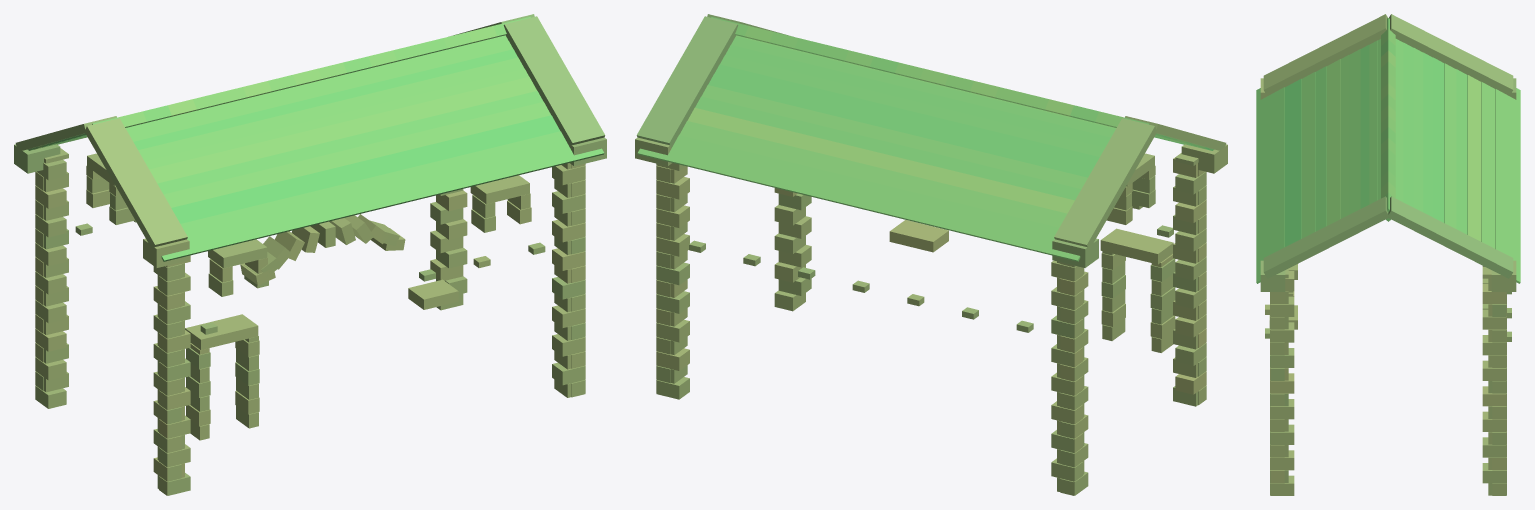
File: SM_Bld_048_Stone.glb
3 views of the same model, side by side, from view 1: azimuth 30°, elevation 25°; view 2: azimuth 150°, elevation 25°; view 3: azimuth 270°, elevation 25° (orthographic). The views are drawn at different scales.
Visible parts, largest first — view 1: SM_Bld_048_Stone; view 2: SM_Bld_048_Stone; view 3: SM_Bld_048_Stone.
Boxes of the visible parts, left/top/right/bottom form: SM_Bld_048_Stone: left=14, top=14, right=606, bottom=495; SM_Bld_048_Stone: left=635, top=14, right=1227, bottom=495; SM_Bld_048_Stone: left=1256, top=14, right=1520, bottom=495.
Bounding box in the file's own units: 9.89 × 6.86 × 5.62.
